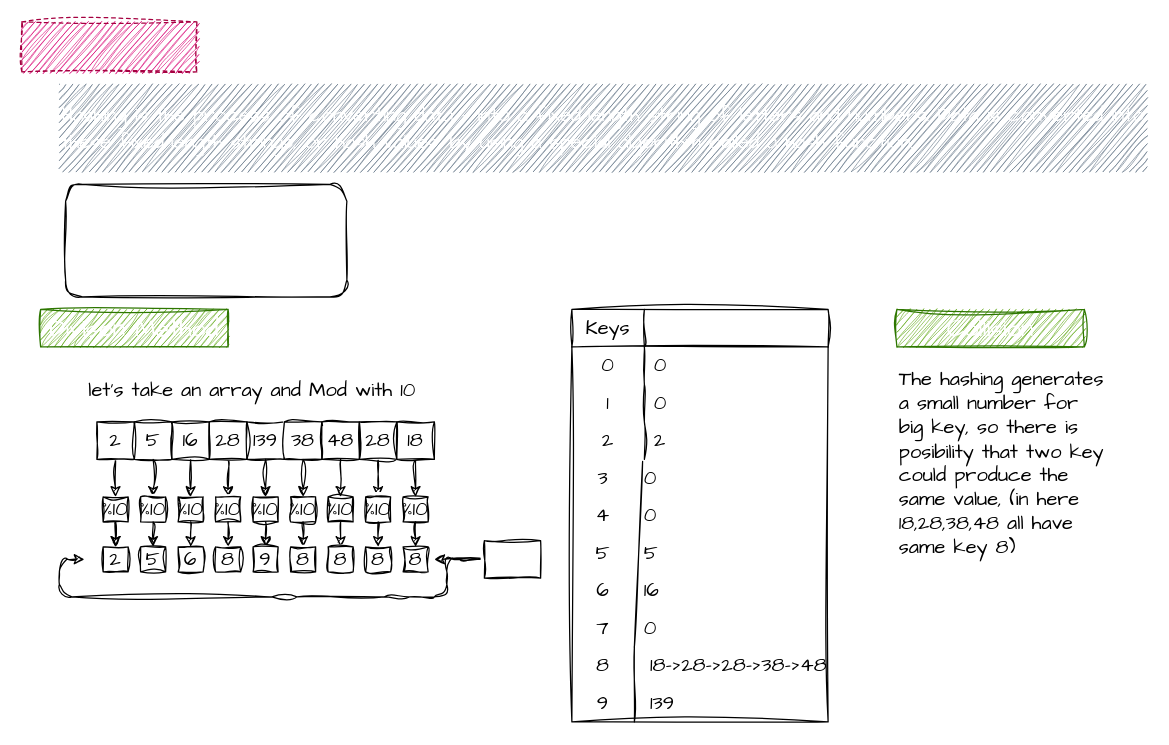
Some shapes in this 1169 by 745 pixel diagram are drawn without their labels. The shapes that lost their labels are listed below. From the top down, each one's box as (x1, y1, x2, y2) in pixels, then its label:
(21, 21, 197, 72): Hashing
(64, 183, 347, 297): 1. Division Method 2.Folding Method 3.mid square method
(571, 308, 828, 722): Table
